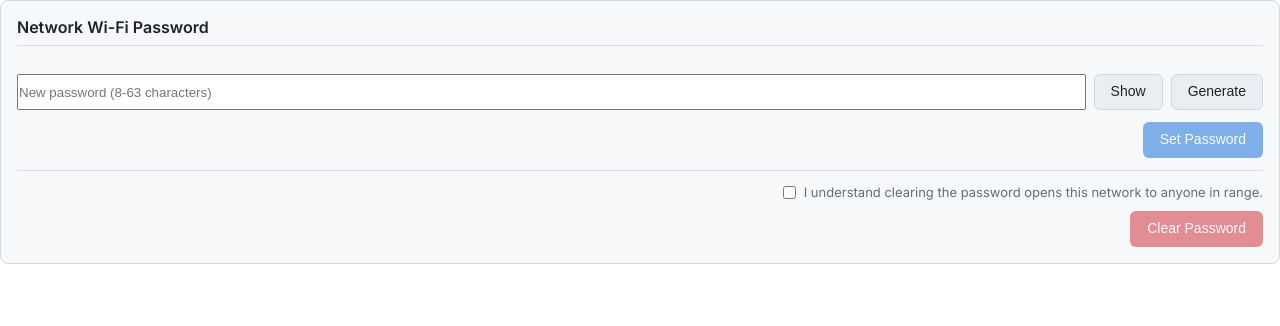
Test: NetworkPasswordCard › never renders the submitted password back onto the page and shows the reconnect note
This screenshot has width=1280, height=326.
Click the button "Generate".
click(1217, 92)  # box [1171,74,1263,110]
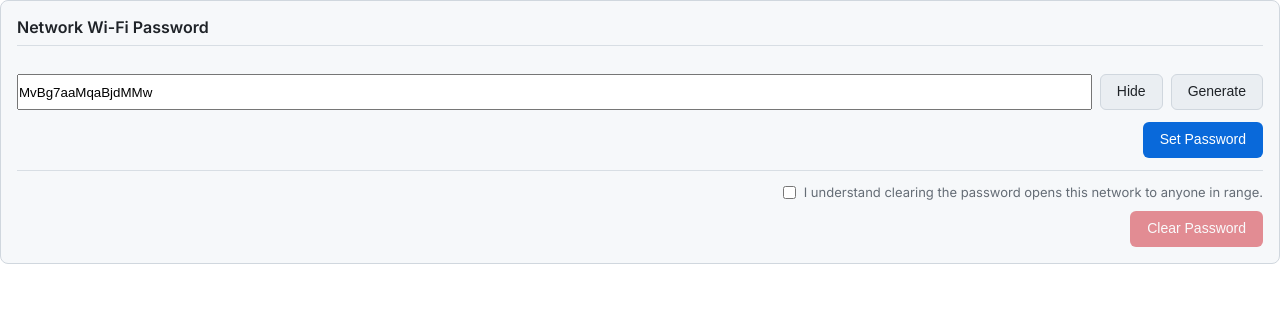
Click the button "Set Password".
click(1203, 140)  # box [1143,122,1263,158]
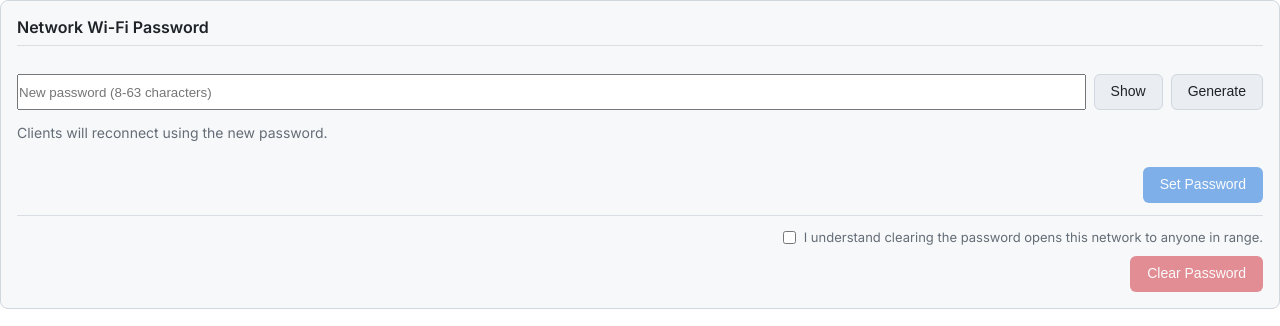
Check: the text "Clients will reconnect using the new password." is shown, box [17,124,328,141]
